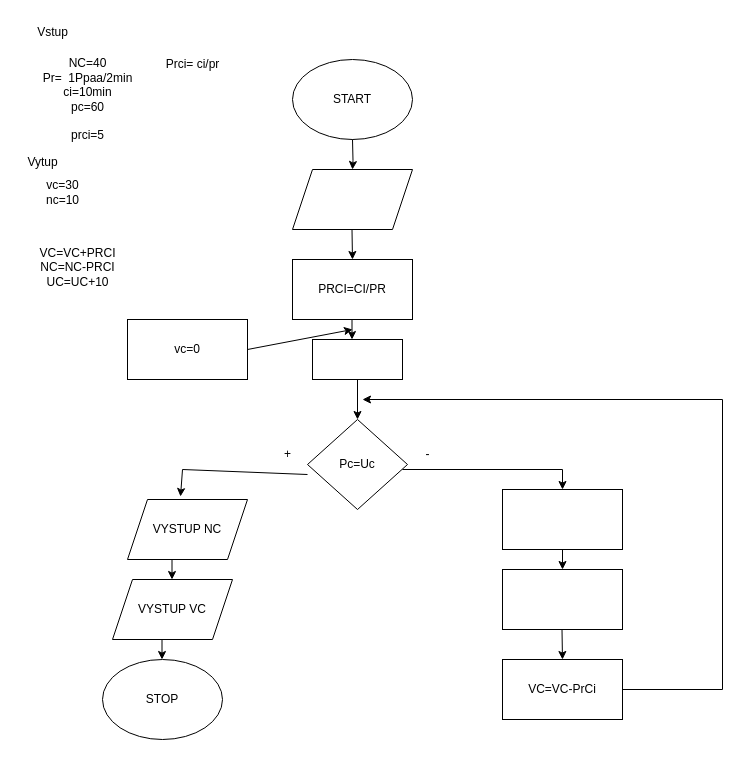
Some shapes in this 748 by 757 pixel diagram are drawn without their labels. Each missing label, with the centre of its shape:
"NC,PR,CI,PC" goes at point (352, 199).
"NC=NC-PRCI" goes at point (562, 599).
"uc=0" goes at point (357, 359).
"UC=UC-CI" goes at point (562, 519).
